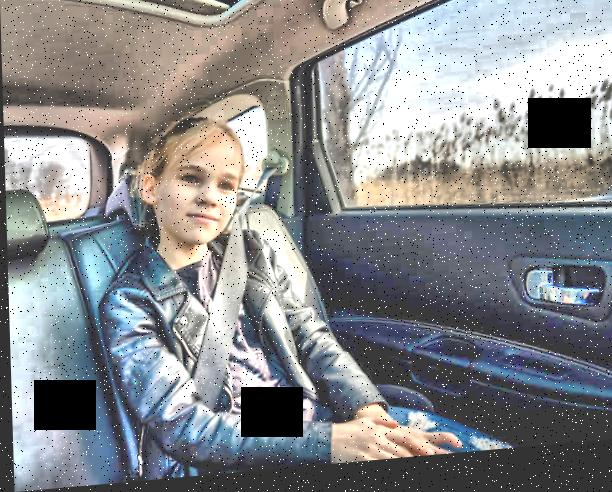seatbelt: (172, 156, 304, 431)
